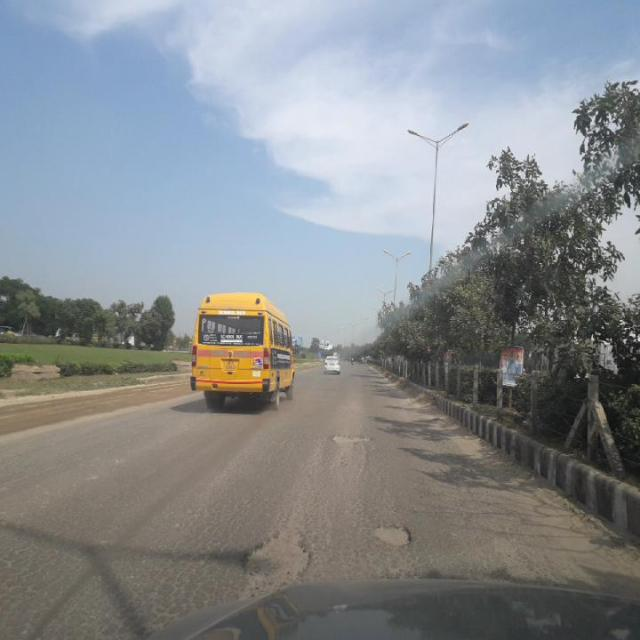Crack: (194, 527, 320, 581), (376, 512, 421, 548), (327, 414, 364, 446)
